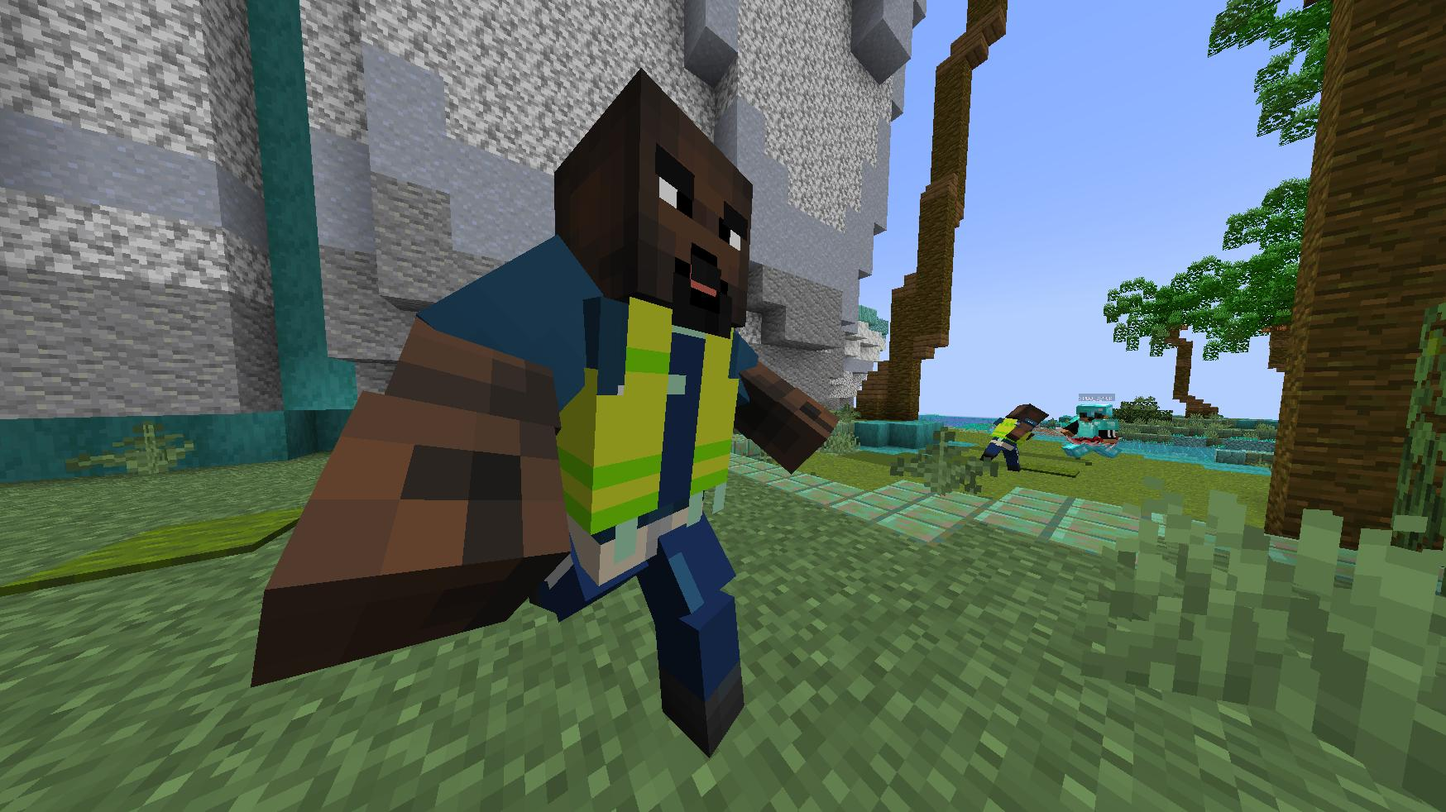Guardian: (253, 72, 837, 754)
